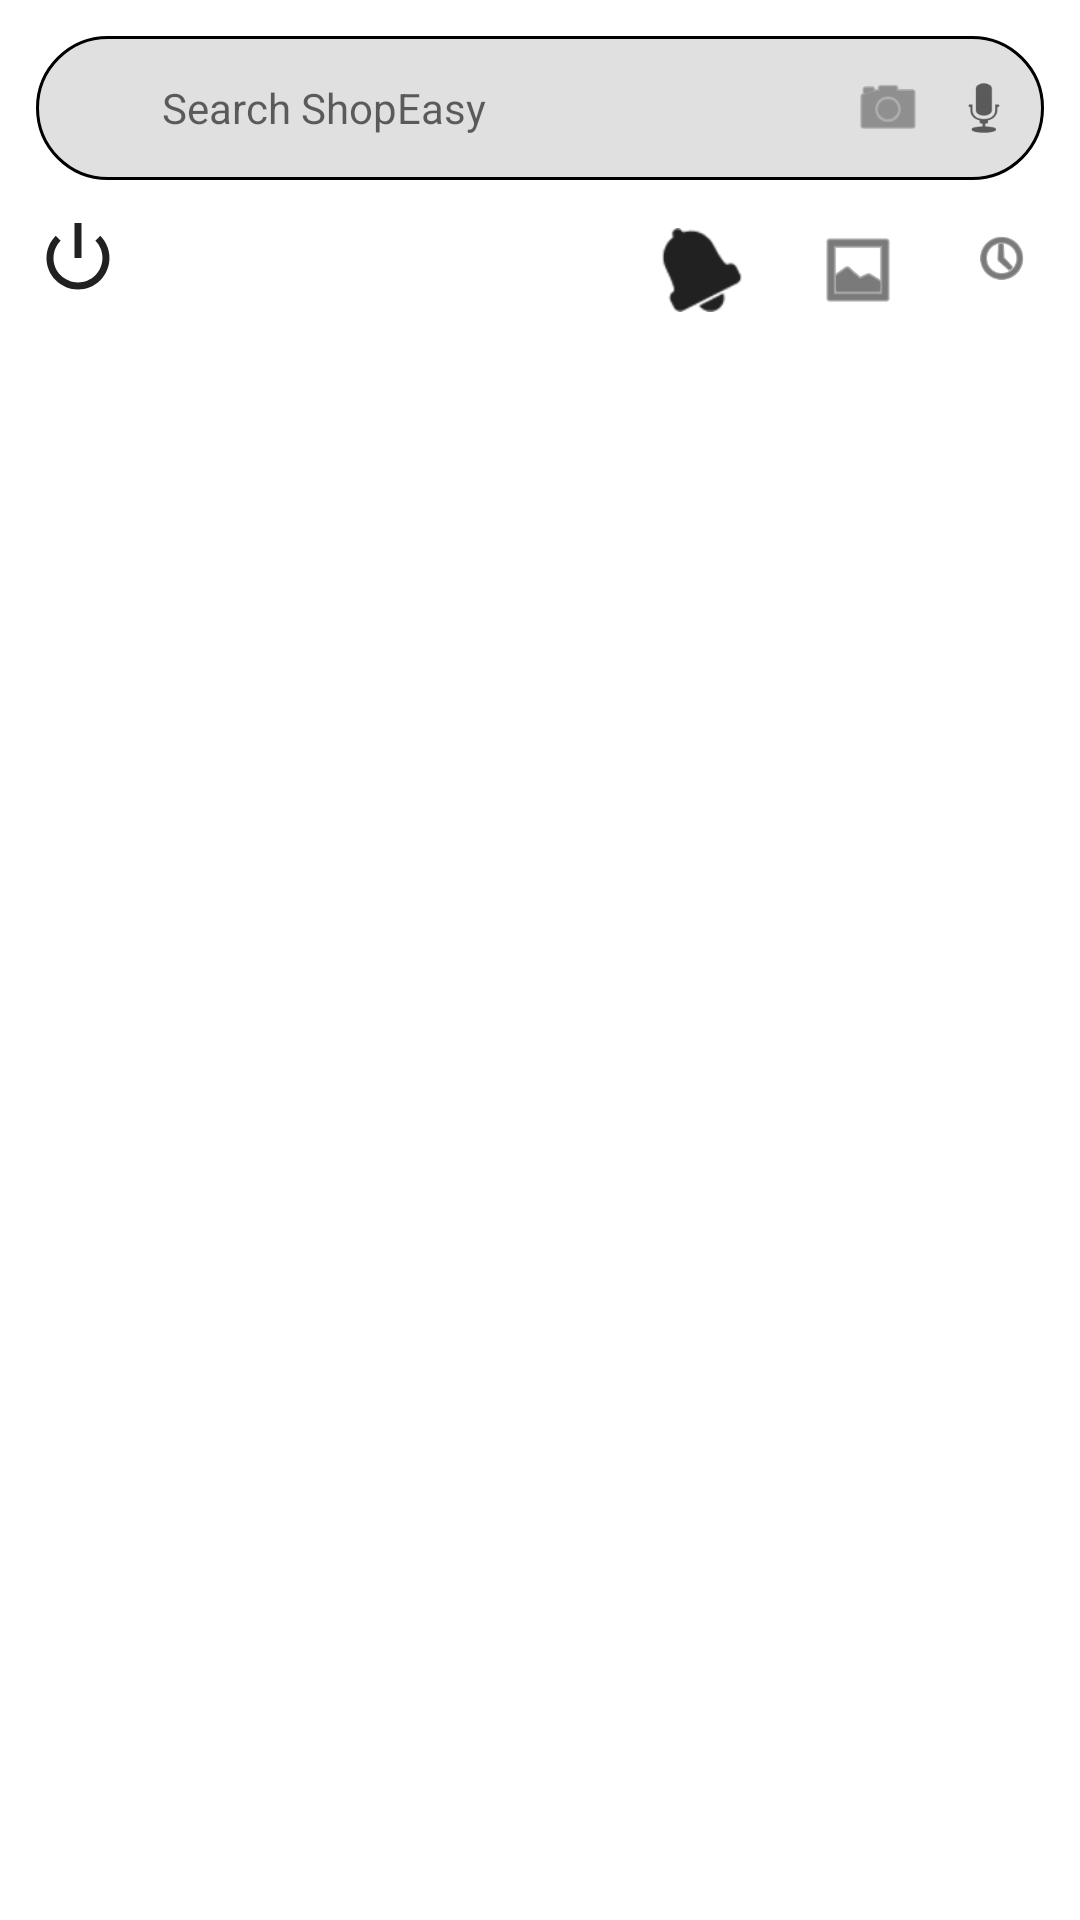

Locate icon controls on the screen. Image size 1080w x 1920h, boxes as (x1, y1, x2, y2).
camera: (860, 85, 916, 129)
gallery: (826, 238, 890, 302)
lock power off: (46, 223, 110, 290)
popup reminder: (662, 228, 742, 312)
recent history: (980, 237, 1023, 280)
speak now: (968, 83, 1000, 133)
